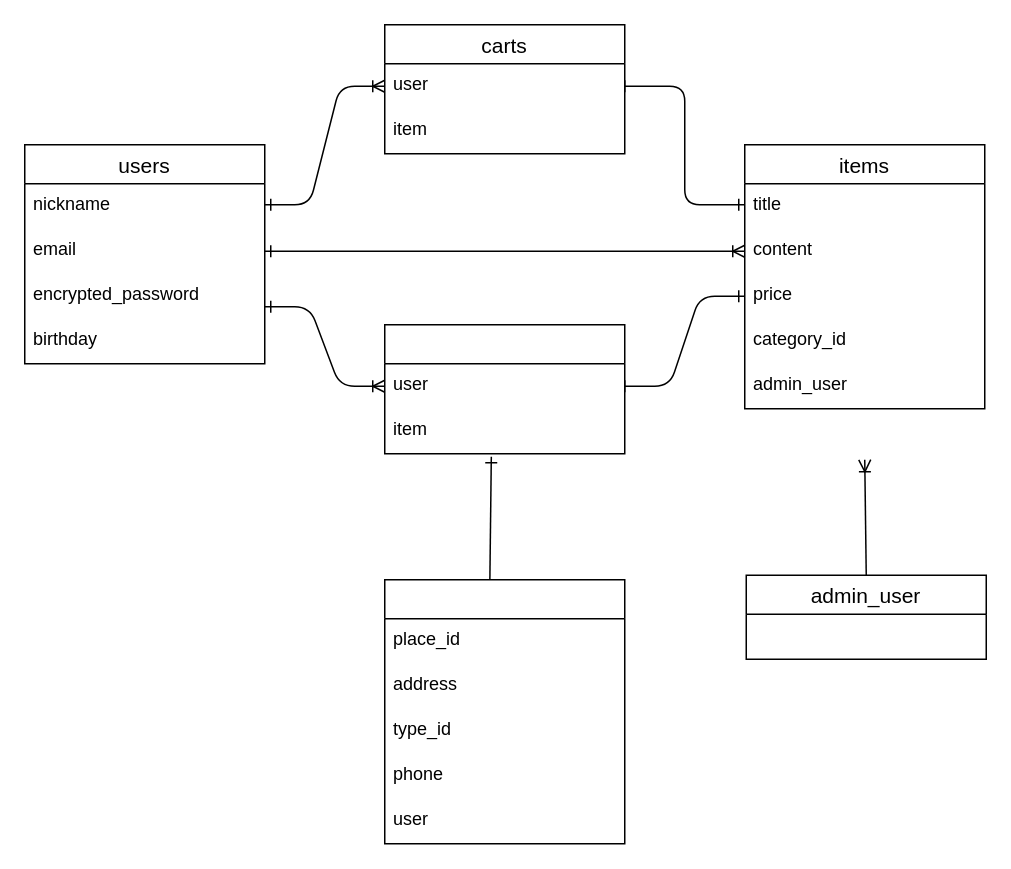
The diagram is 1011 pixels wide and 869 high, and some of its shapes have lost their labels. The shapes that lost their labels are listed below. From the top down, each one's box as (x1, y1, x2, y2) in pixels, then its label:
(383, 323, 625, 454): records
(383, 578, 625, 844): orders
